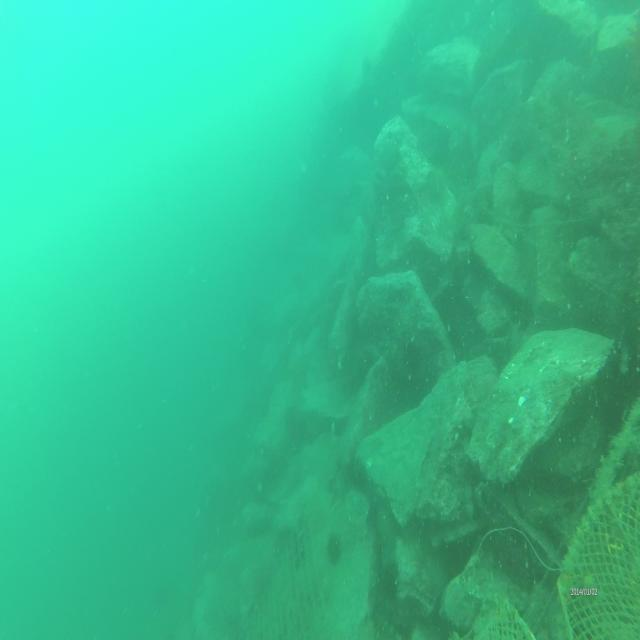echinus: (323, 531, 339, 564)
